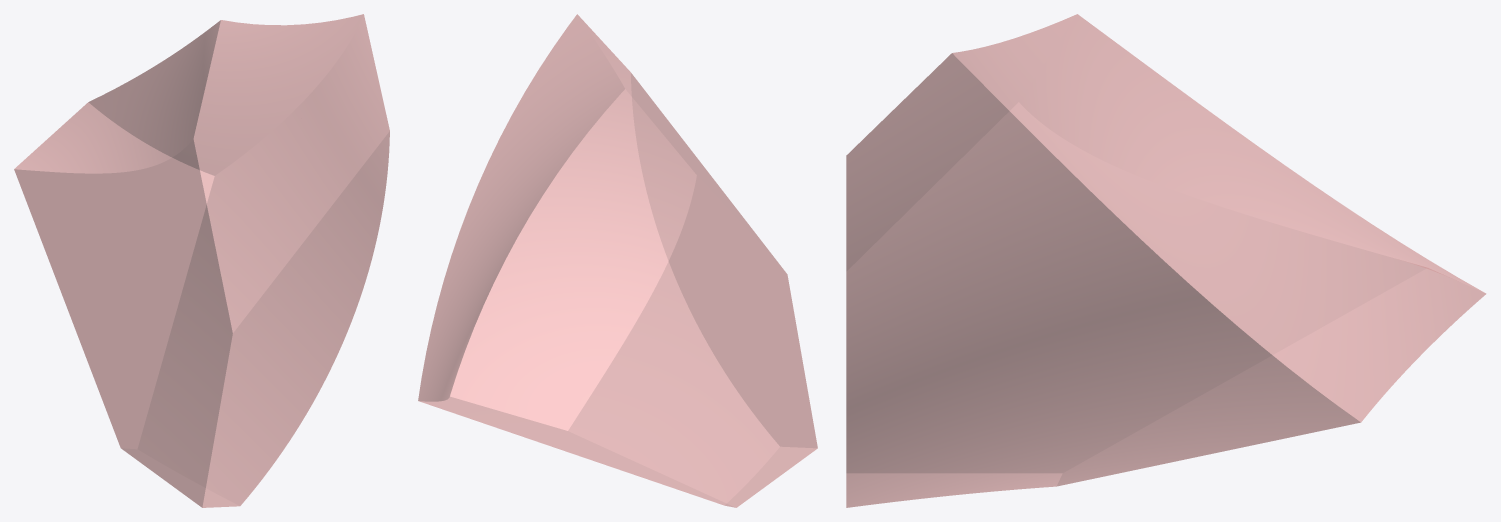
3 renders of one model, left to right at view 1: azimuth 30°, elevation 25°; view 2: azimuth 150°, elevation 25°; view 3: azimuth 270°, elevation 25°, orthographic. The views are drawn at different scales.
Visible parts, largest first — view 1: Bloc = Etape 7; view 2: Bloc = Etape 7; view 3: Bloc = Etape 7.
Boxes of the visible parts, x1=… form: Bloc = Etape 7: x1=14, y1=14, x2=389, y2=507; Bloc = Etape 7: x1=418, y1=14, x2=817, y2=507; Bloc = Etape 7: x1=846, y1=14, x2=1486, y2=507.
Bounding box in the file's own units: 0.3231 × 0.567 × 0.5869.
